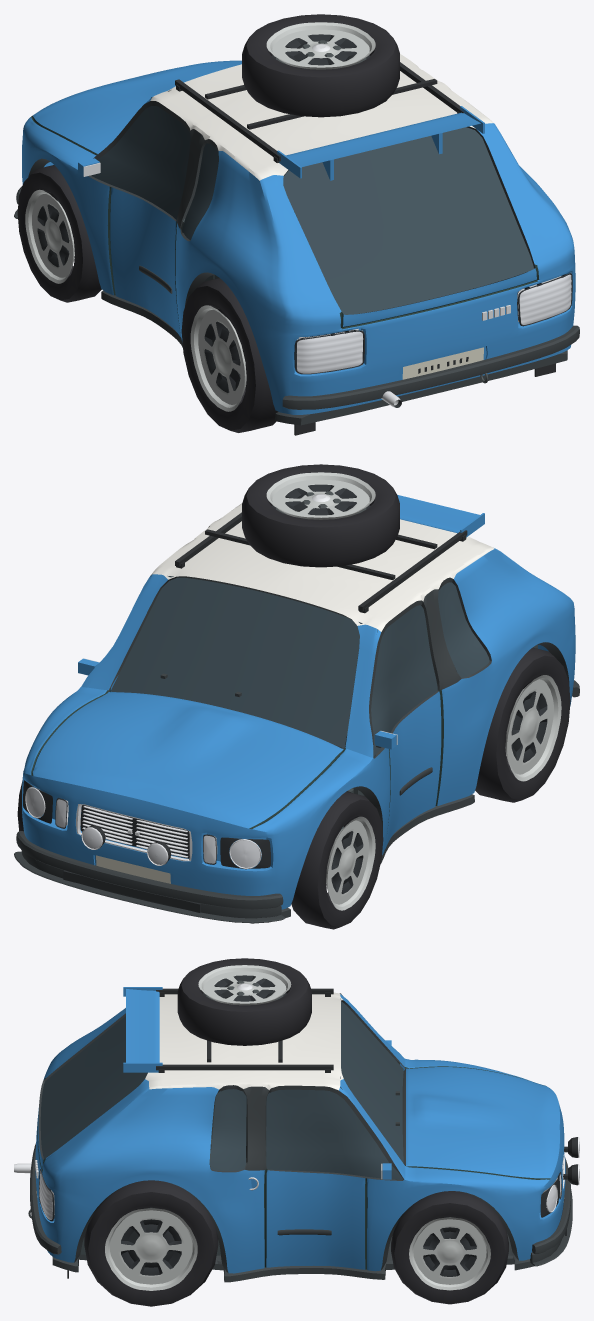
File: forge_kestrel_lod1.fbx
3 renders of one model, top to bottom at view 1: azimuth 30°, elevation 25°; view 2: azimuth 150°, elevation 25°; view 3: azimuth 270°, elevation 25°, orthographic. The views are drawn at different scales.
Parts seen in each view (by area): view 1: Body, Wheel_RL_Mesh, Wheel_FL_Mesh; view 2: Body, Wheel_RL_Mesh, Wheel_FL_Mesh; view 3: Body, Wheel_RR_Mesh, Wheel_FR_Mesh.
Part boxes in pixels (bbox=[...]): Body: bbox=[14, 14, 579, 435]; Wheel_RL_Mesh: bbox=[181, 278, 278, 432]; Wheel_FL_Mesh: bbox=[17, 165, 101, 302]; Body: bbox=[14, 464, 579, 923]; Wheel_RL_Mesh: bbox=[475, 647, 570, 802]; Wheel_FL_Mesh: bbox=[291, 791, 383, 929]; Body: bbox=[14, 958, 579, 1282]; Wheel_RR_Mesh: bbox=[84, 1180, 218, 1306]; Wheel_FR_Mesh: bbox=[391, 1191, 508, 1304].
Bounding box in the file's own units: 182 × 168 × 331.
